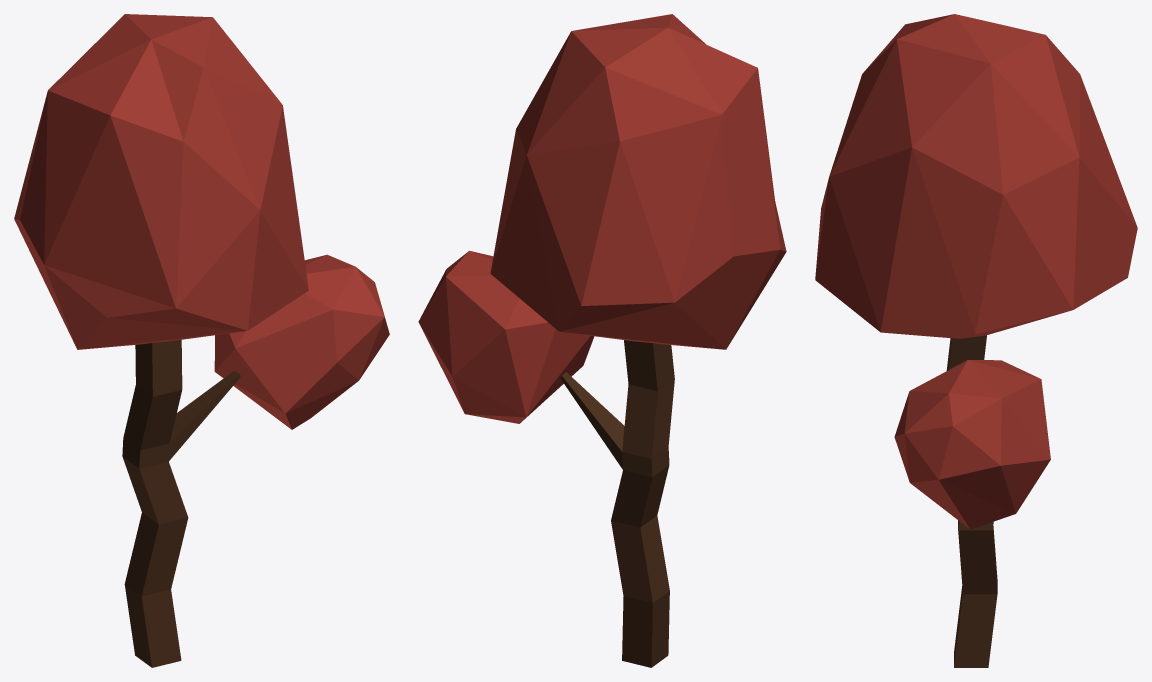
Rendered from Tree_41_Red.fbx.
3 views of the same model, side by side, from view 1: azimuth 30°, elevation 25°; view 2: azimuth 150°, elevation 25°; view 3: azimuth 270°, elevation 25° (orthographic).
Parts seen in each view (by area): view 1: Tree_41_Red_Part_1, Tree_41_Red_Part_2; view 2: Tree_41_Red_Part_1, Tree_41_Red_Part_2; view 3: Tree_41_Red_Part_1, Tree_41_Red_Part_2.
Boxes of the visible parts, box(x1,y1,x2,y2) form: Tree_41_Red_Part_1: box(14, 14, 389, 429); Tree_41_Red_Part_2: box(122, 339, 240, 667); Tree_41_Red_Part_1: box(418, 14, 786, 423); Tree_41_Red_Part_2: box(560, 340, 674, 667); Tree_41_Red_Part_1: box(815, 14, 1137, 529); Tree_41_Red_Part_2: box(946, 335, 997, 667).
Size of the model in its own units: 450 by 794 by 363.
